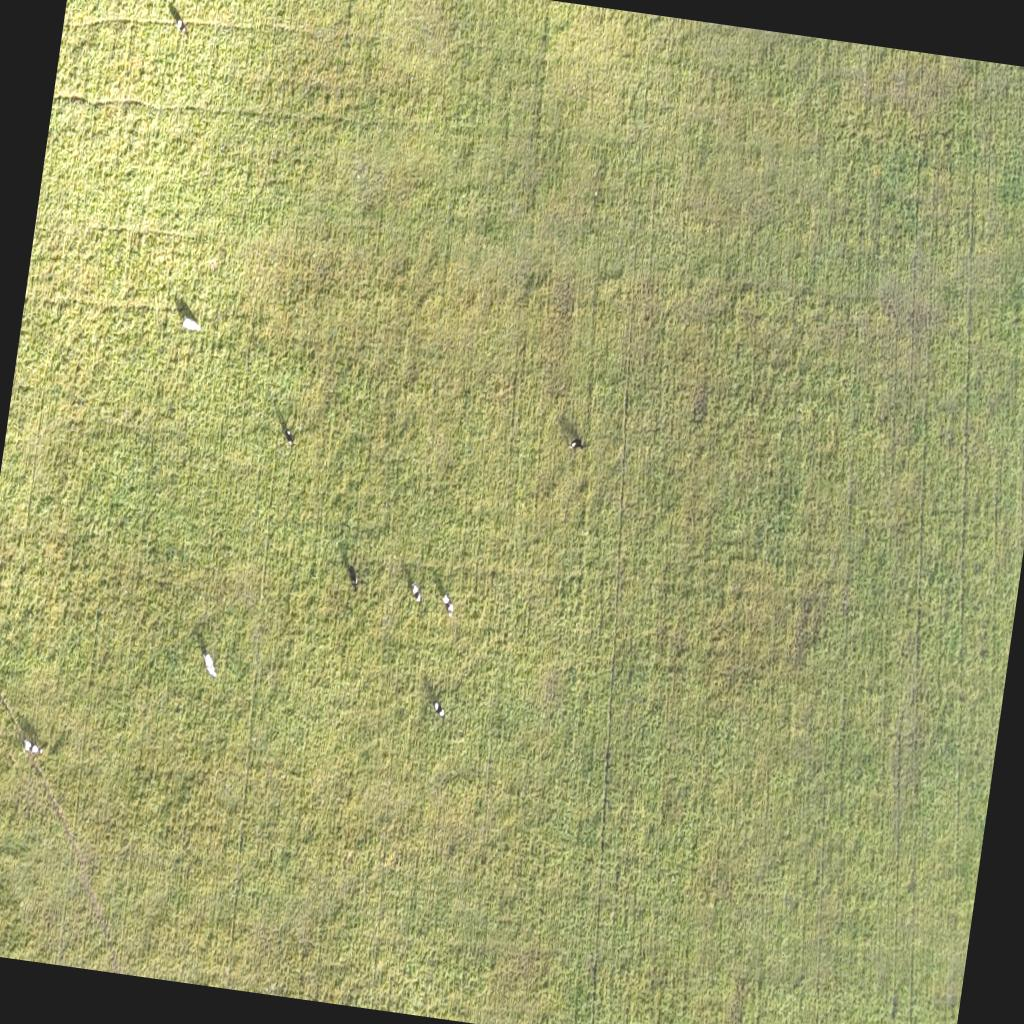cow: (22, 740, 44, 754)
